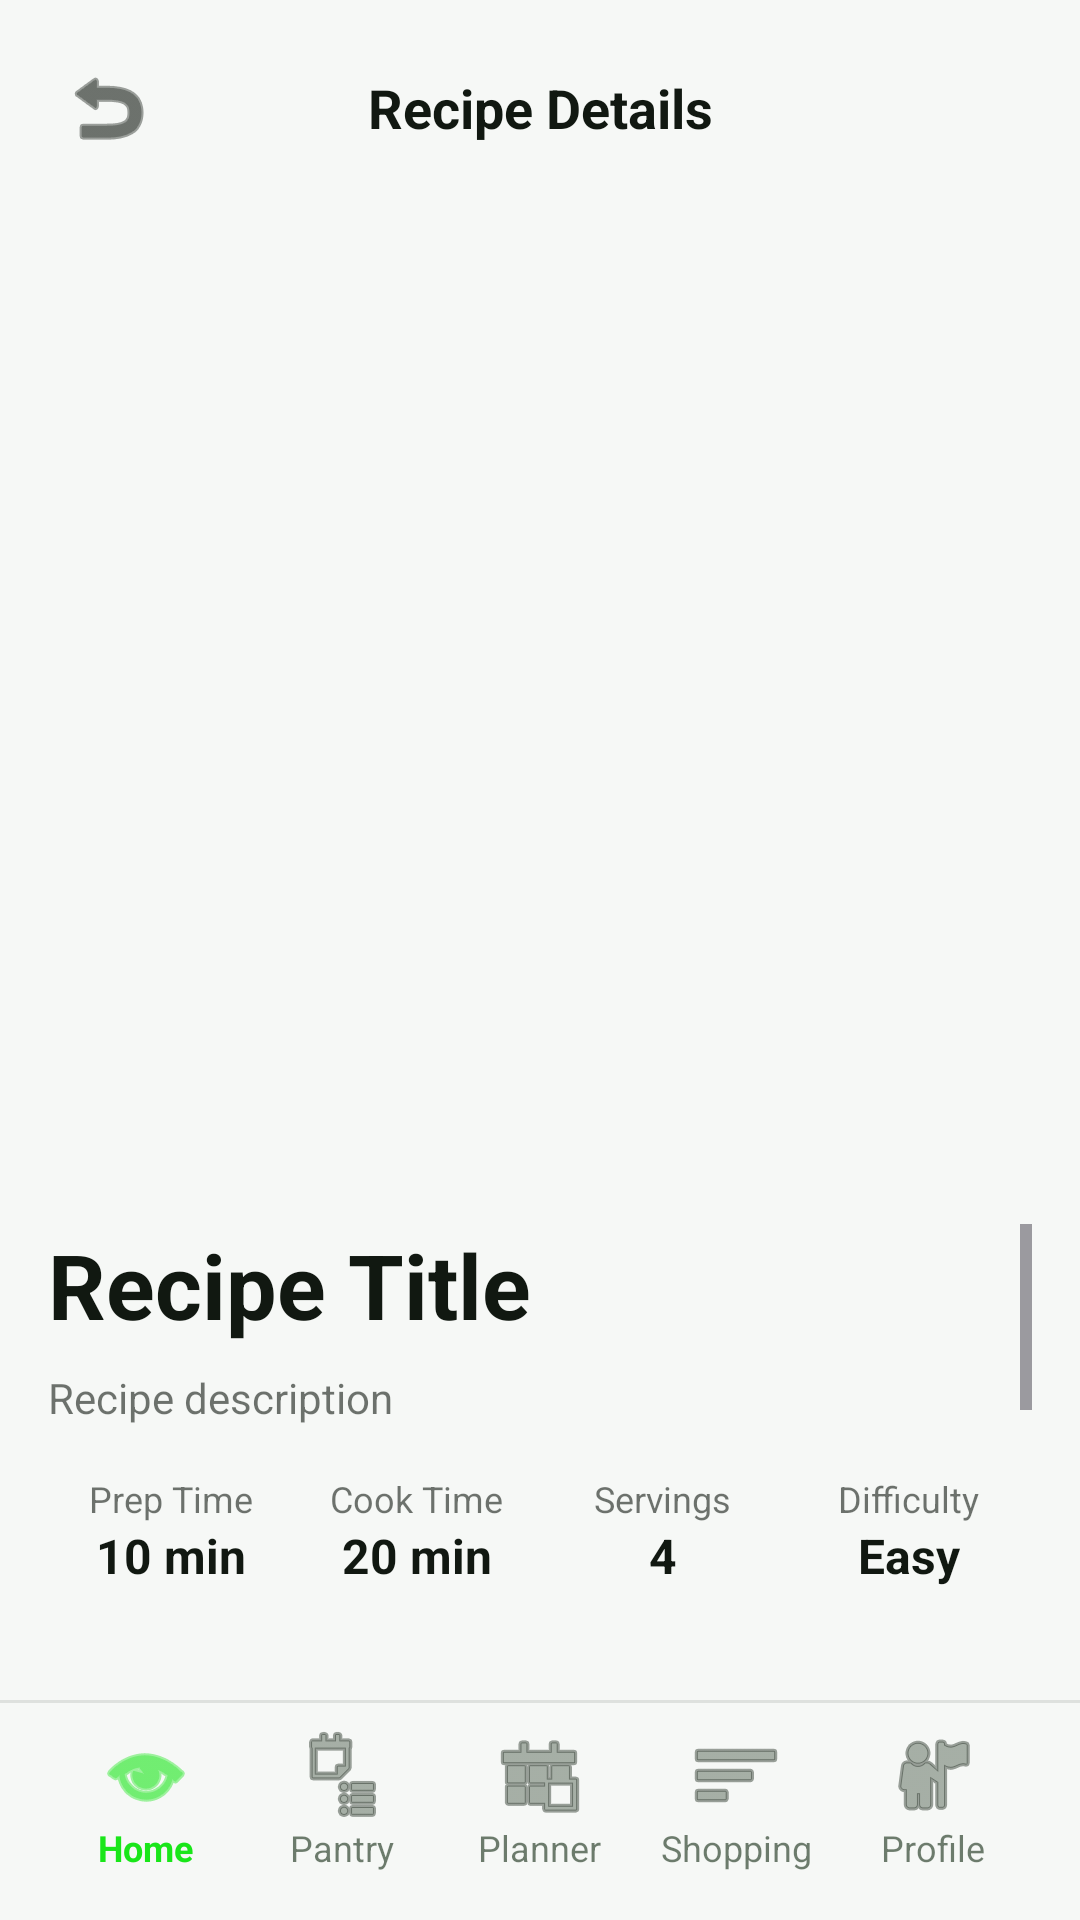

Where icons sit on this 1080x1920 app screen, as (x1, y1, x2, y2):
agenda: (309, 1732, 376, 1817)
Back: (75, 77, 144, 140)
myplaces: (898, 1739, 970, 1811)
sort by size: (695, 1749, 777, 1802)
today: (501, 1740, 579, 1813)
view: (107, 1753, 185, 1802)
